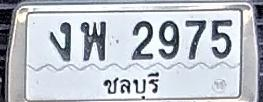2: (131, 20, 153, 60)
5: (211, 20, 232, 58)
7: (185, 20, 206, 60)
9: (158, 20, 179, 59)
A07: (49, 21, 71, 61)
A30: (80, 20, 106, 61)
CBI: (98, 69, 163, 101)
